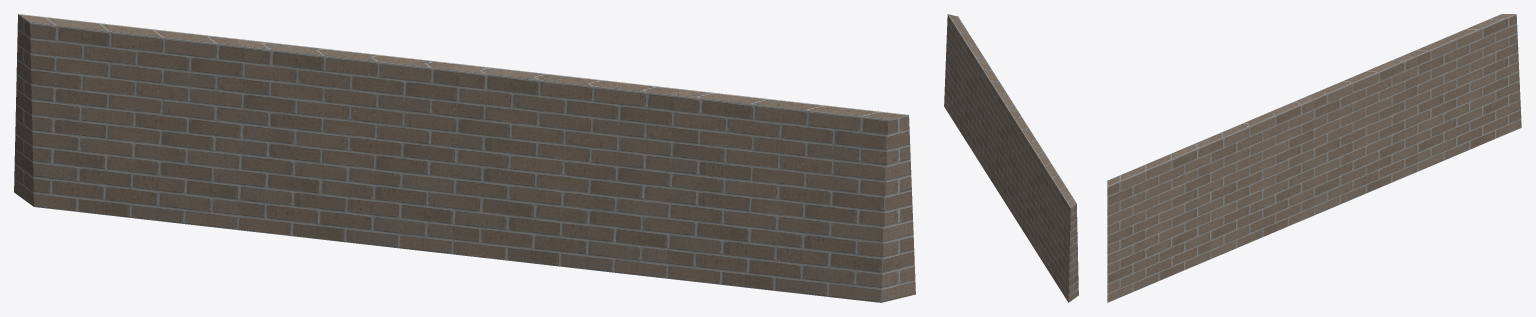
Rendered from WallCorner.fbx.
The picture shows the model from 3 angles, left to right: view 1: azimuth 30°, elevation 25°; view 2: azimuth 150°, elevation 25°; view 3: azimuth 270°, elevation 25°; orthographic projection. The views are drawn at different scales.
Visible parts, largest first — view 1: Empty_Mesh; view 2: Empty_Mesh; view 3: Empty_Mesh.
Boxes of the visible parts, <box> form: Empty_Mesh: <box>14,14,915,302</box>; Empty_Mesh: <box>944,14,1078,302</box>; Empty_Mesh: <box>1107,14,1521,302</box>.
Bounding box in the file's own units: 16.5 × 5 × 16.5.
